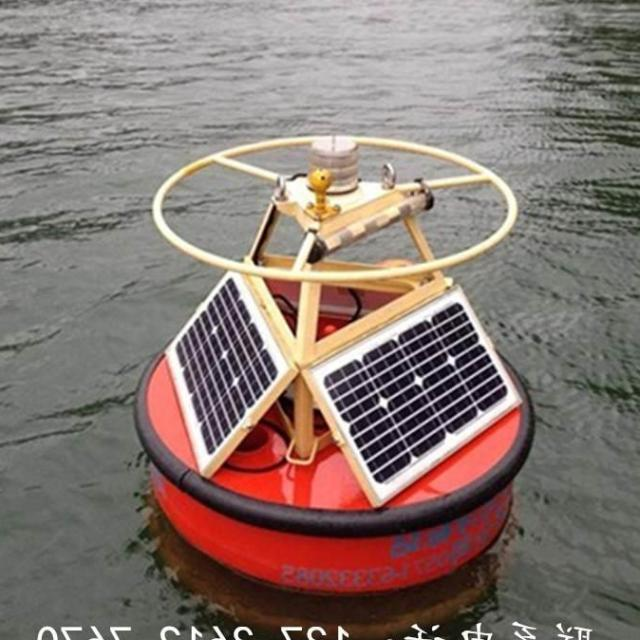buoy: (134, 130, 547, 587)
